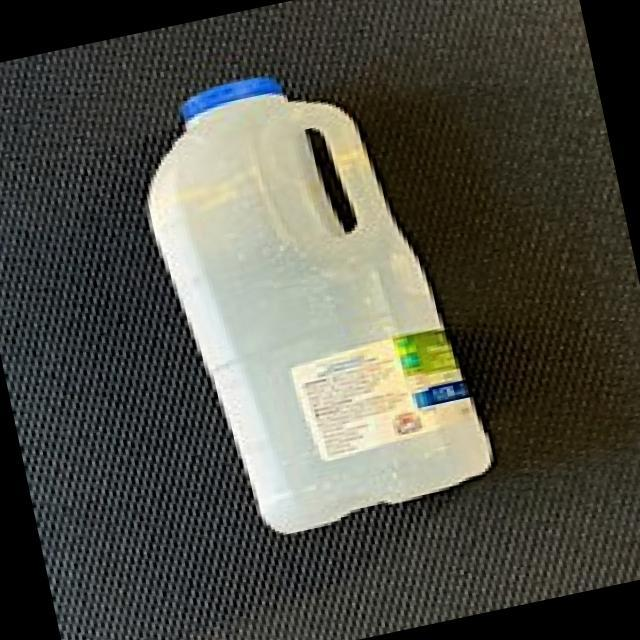HDPE Plastic: (139, 68, 501, 544)
